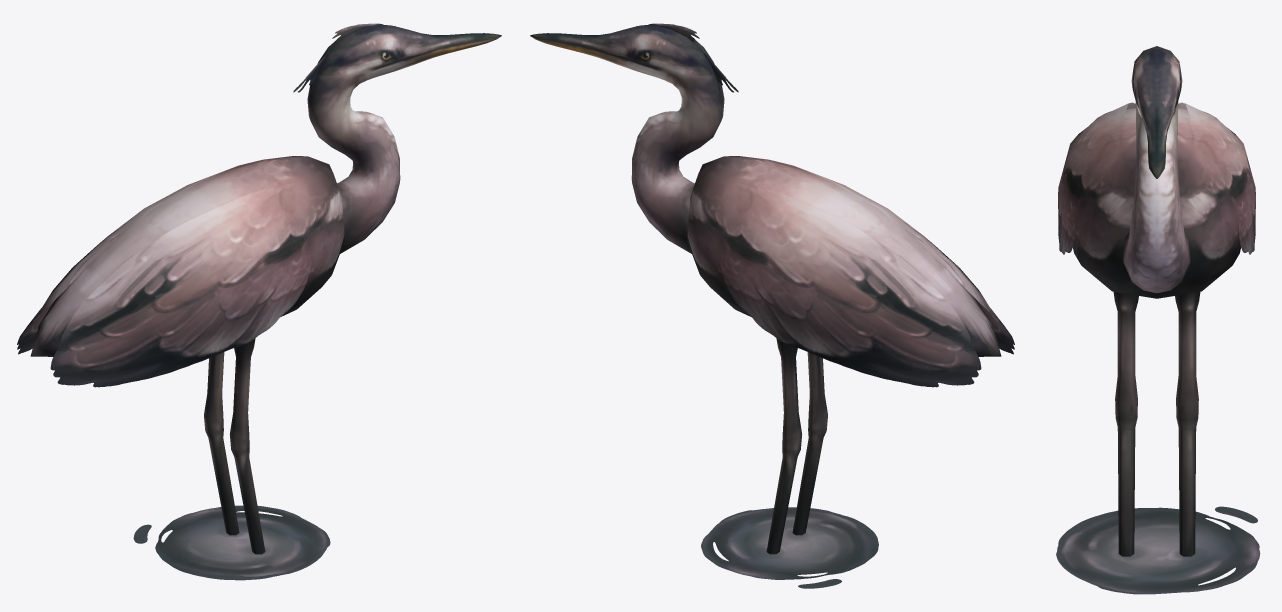
File: tall bird.glb
The picture shows the model from 3 angles, left to right: view 1: azimuth 30°, elevation 25°; view 2: azimuth 150°, elevation 25°; view 3: azimuth 270°, elevation 25°; orthographic projection. The views are drawn at different scales.
Parts seen in each view (by area): view 1: Cube, Cube001; view 2: Cube, Cube001; view 3: Cube, Cube001.
Part boxes in pixels (x1,y1,x2,y2): Cube: [17, 23, 501, 554]; Cube001: [133, 505, 330, 580]; Cube: [530, 23, 1014, 554]; Cube001: [701, 507, 878, 588]; Cube: [1058, 46, 1255, 556]; Cube001: [1056, 506, 1260, 594].
Size of the model in its own units: 0.6173 by 0.6237 by 0.2128.
1 material, 1 textured.
